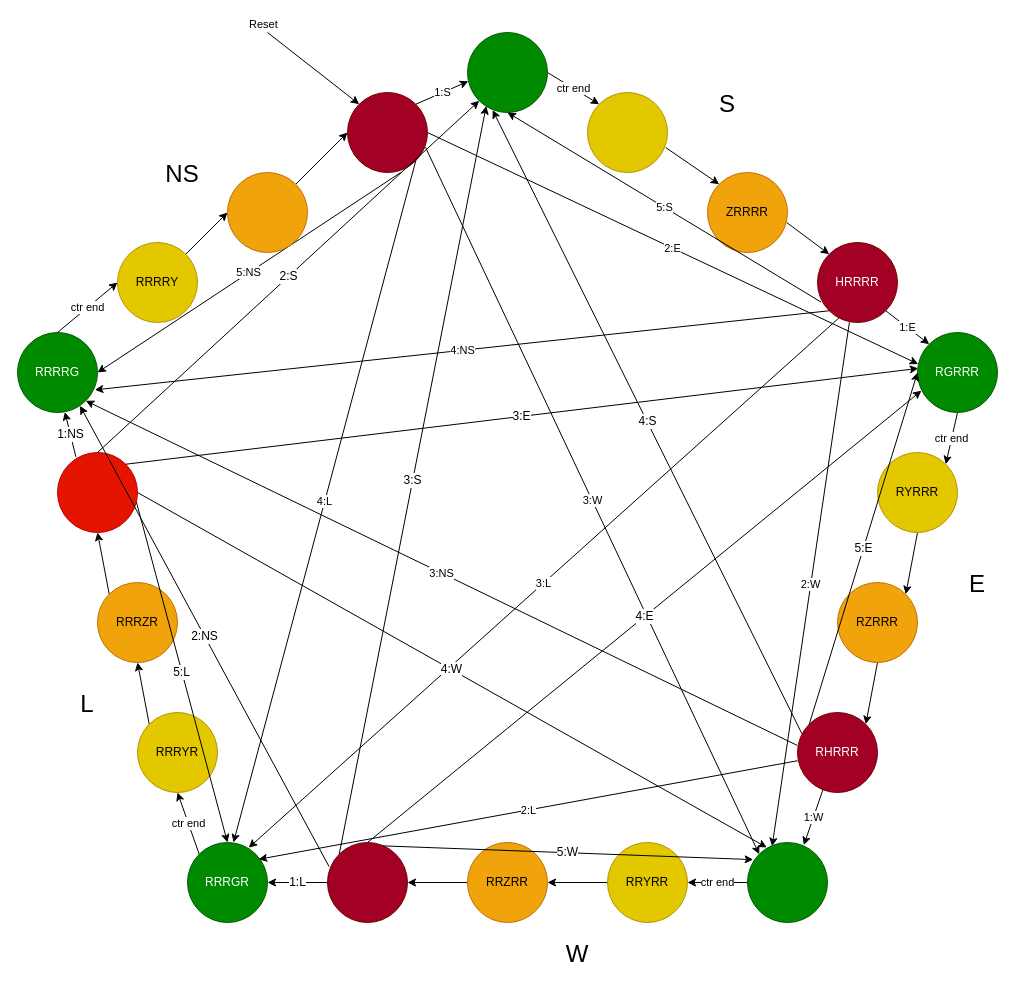
Image size: 1015x995. Some labels were removed from this diagram. Each missing label, with the box of its shape:
GRRRR: (466, 32, 548, 112)
RRGRR: (746, 842, 828, 922)
RRHRR: (326, 842, 408, 922)
RRRHR: (56, 452, 138, 532)
RRRRH: (346, 92, 428, 172)
RRRRZ: (226, 172, 308, 252)
YRRRR: (586, 92, 668, 172)
